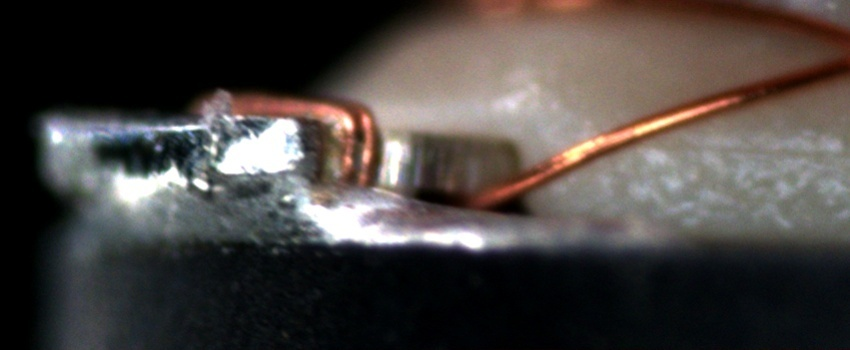DL: (640, 116, 849, 180)
TE: (210, 88, 390, 193)
